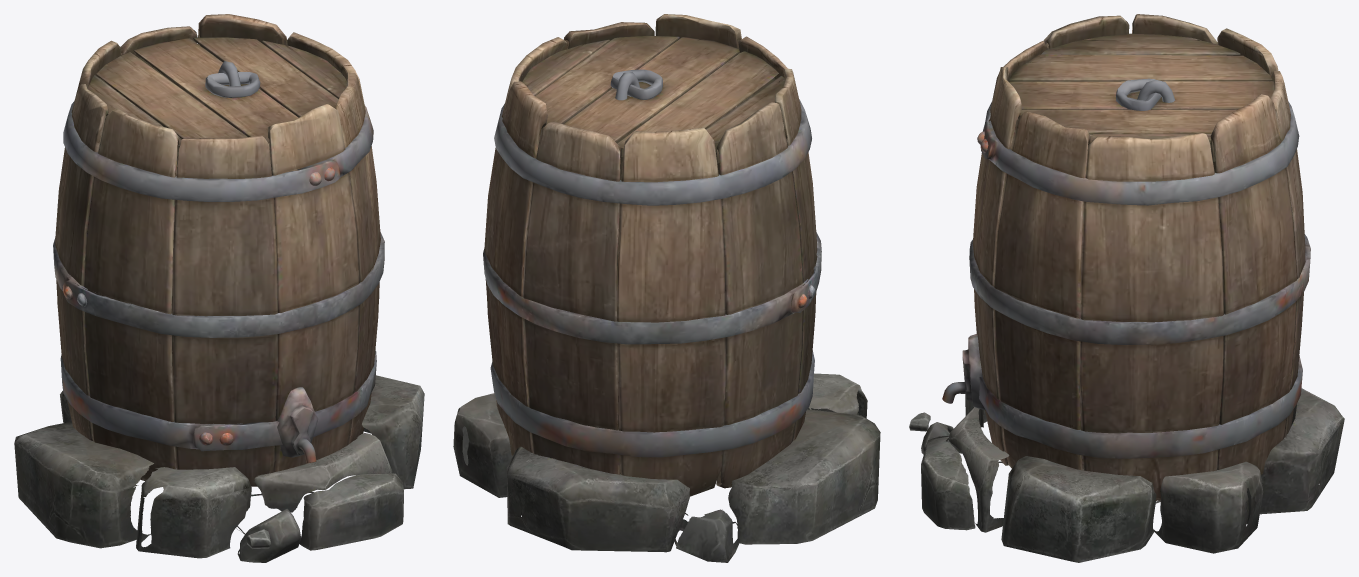
3 views of the same model, side by side, from view 1: azimuth 30°, elevation 25°; view 2: azimuth 150°, elevation 25°; view 3: azimuth 270°, elevation 25° (orthographic). The views are drawn at different scales.
Visible parts, largest first — view 1: SM_WaterBarrel_01_LOD0; view 2: SM_WaterBarrel_01_LOD0; view 3: SM_WaterBarrel_01_LOD0.
Part boxes in pixels (bbox=[...]): SM_WaterBarrel_01_LOD0: bbox=[14, 14, 424, 562]; SM_WaterBarrel_01_LOD0: bbox=[453, 14, 880, 562]; SM_WaterBarrel_01_LOD0: bbox=[909, 14, 1344, 562].
Bounding box in the file's own units: 1.29 × 1.42 × 1.3.
Materials: 2 (2 with a texture image).
